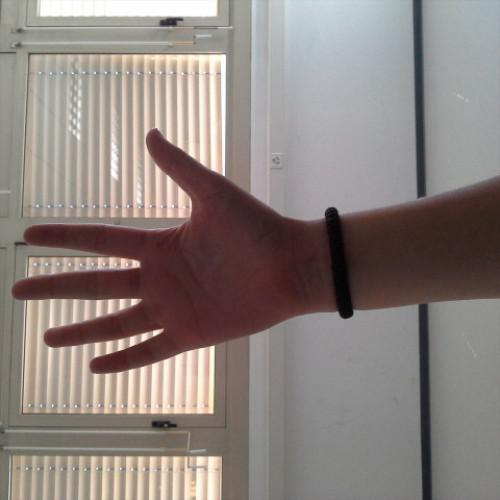paper: (7, 121, 316, 381)
